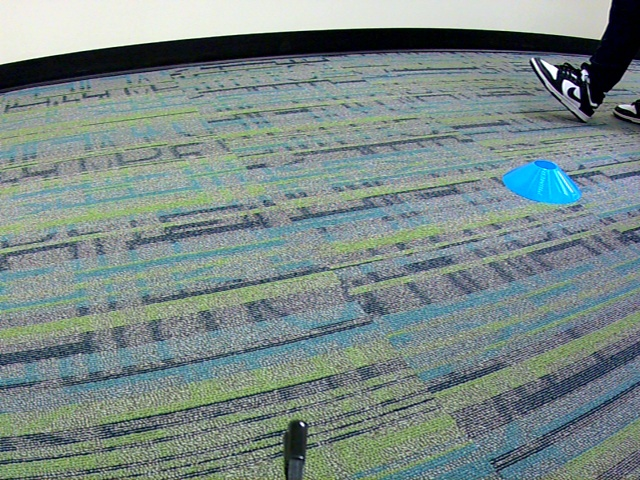cone: (501, 157, 583, 205)
